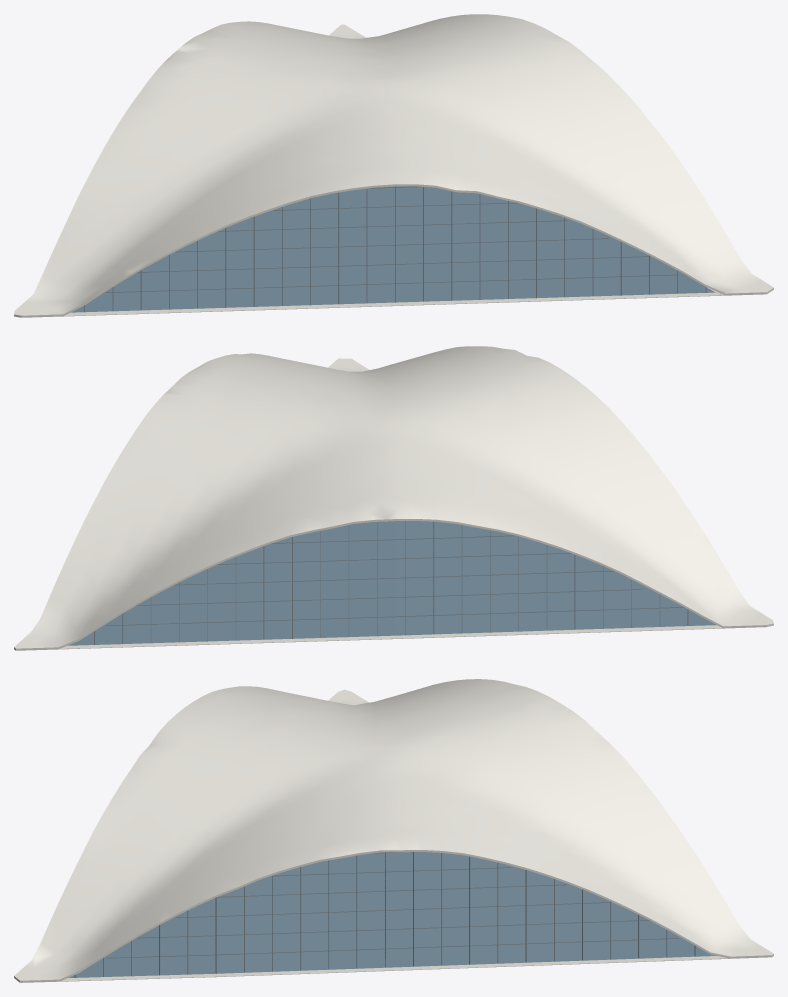
The picture shows the model from 3 angles, top to bottom: view 1: azimuth 30°, elevation 25°; view 2: azimuth 150°, elevation 25°; view 3: azimuth 270°, elevation 25°; orthographic projection.
Visible parts, largest first — view 1: trim, metal, roof, stone; view 2: trim, metal, roof, stone; view 3: trim, metal, roof, stone.
Part boxes in pixels (box(x1,y1,x2,y2)): trim: box(14, 14, 773, 317); metal: box(71, 186, 715, 312); roof: box(84, 186, 706, 312); stone: box(15, 292, 763, 317); trim: box(14, 346, 773, 650); metal: box(68, 521, 715, 645); roof: box(94, 521, 716, 644); stone: box(15, 625, 766, 650); trim: box(14, 679, 773, 982); metal: box(69, 852, 716, 977); roof: box(74, 852, 695, 977); stone: box(14, 956, 769, 982).
Size of the model in its own units: 195 by 38.49 by 215.
